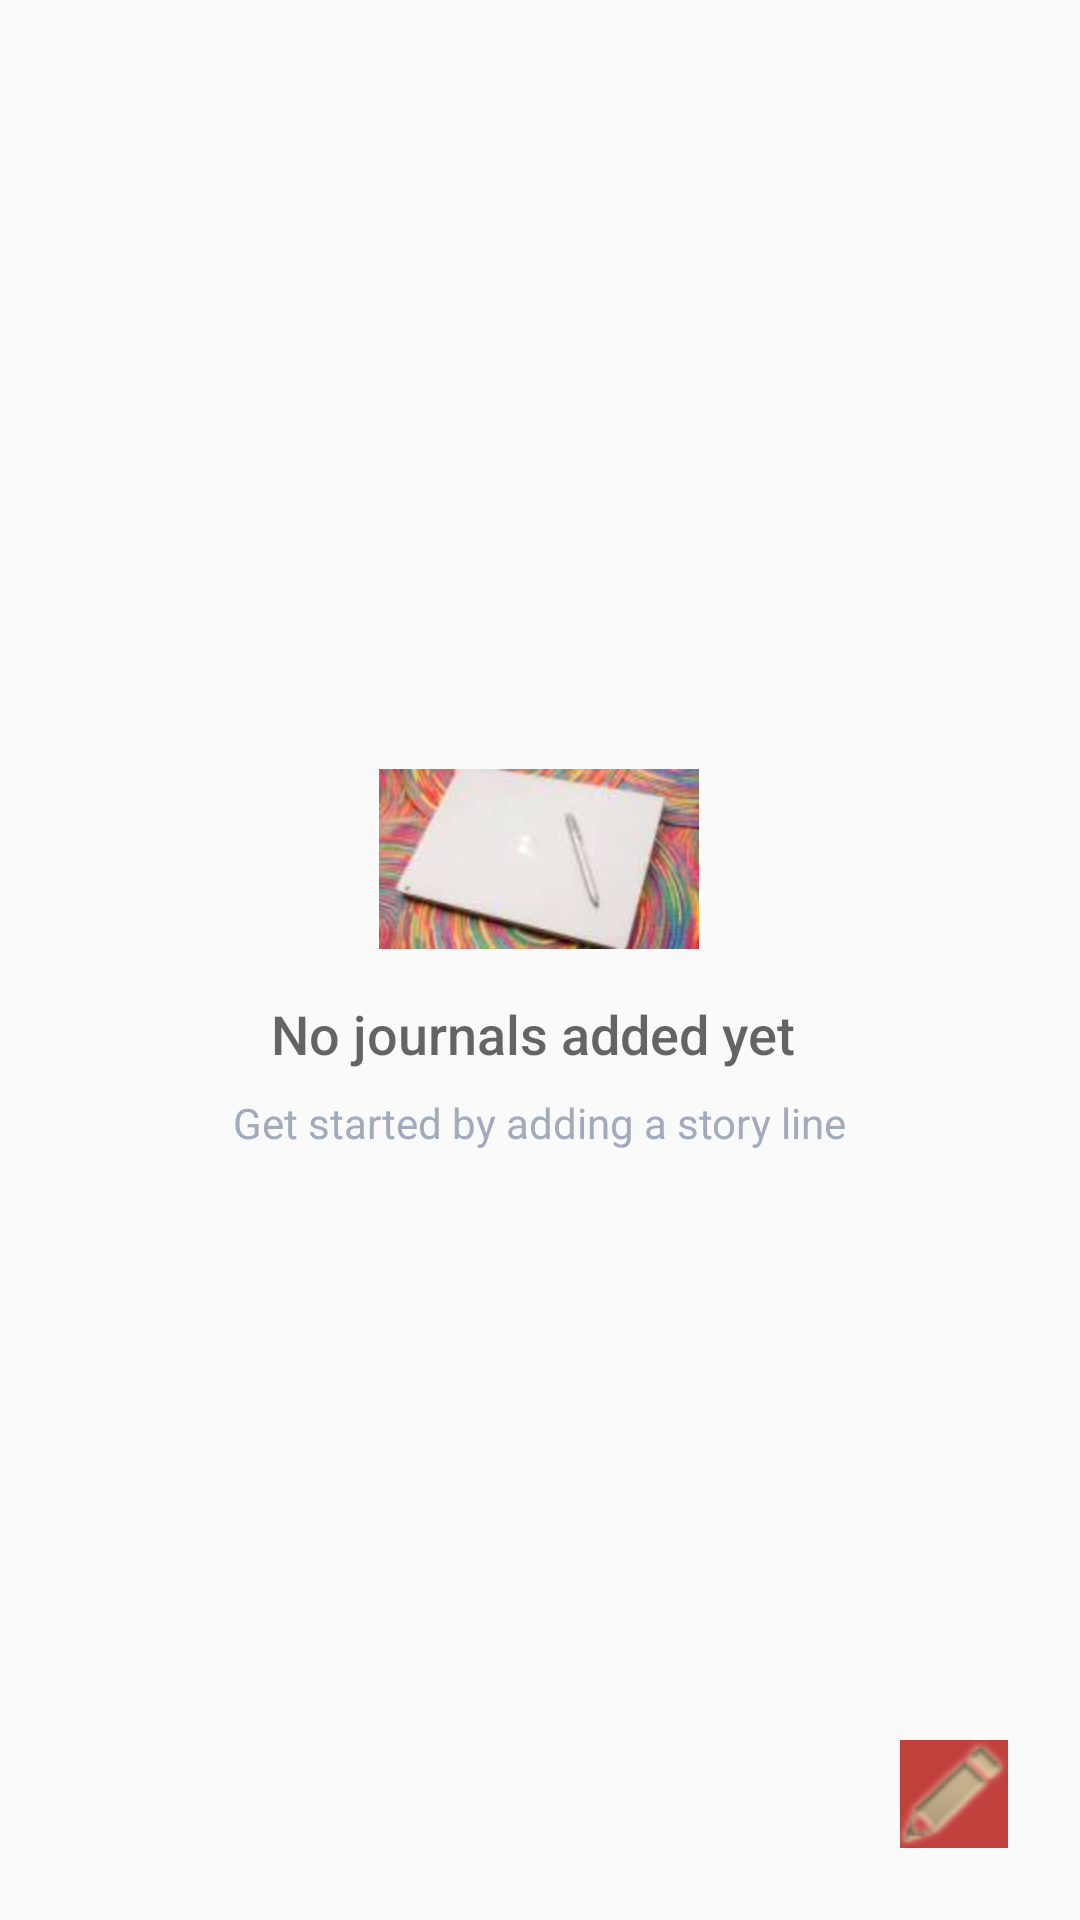

Icon click points for this 1080px×1920px phone screenshot, format (x=x, y=y):
edit: (x=954, y=1794)
